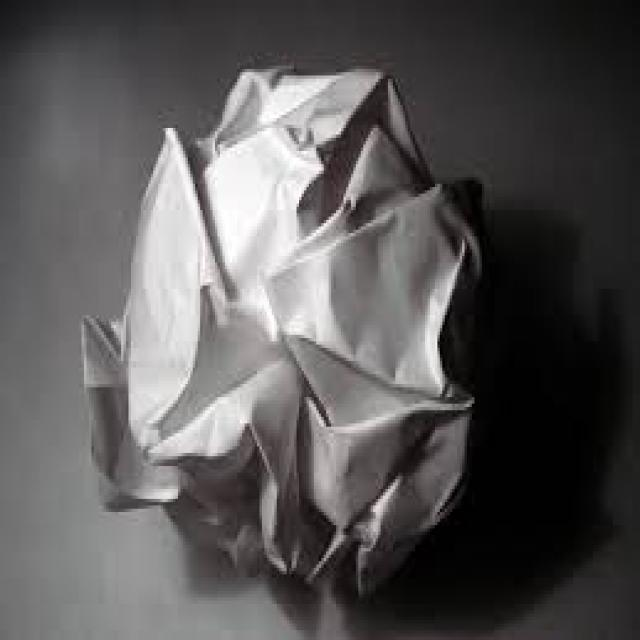paper: (77, 59, 484, 604)
